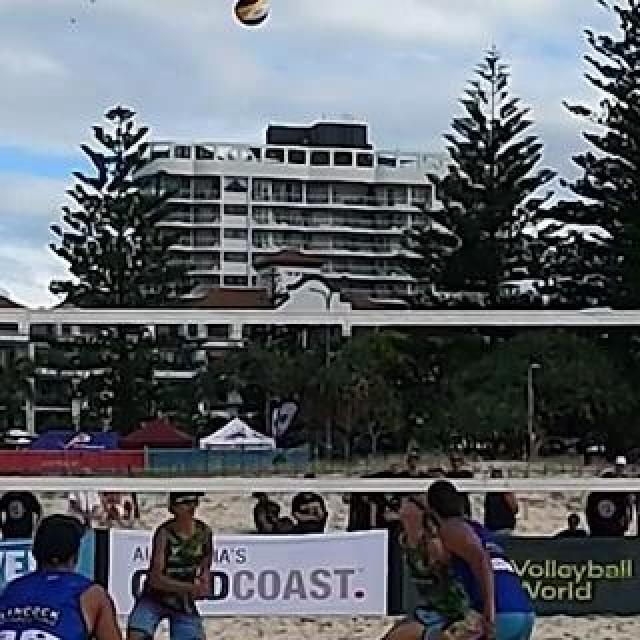volleyball: (231, 1, 269, 27)
